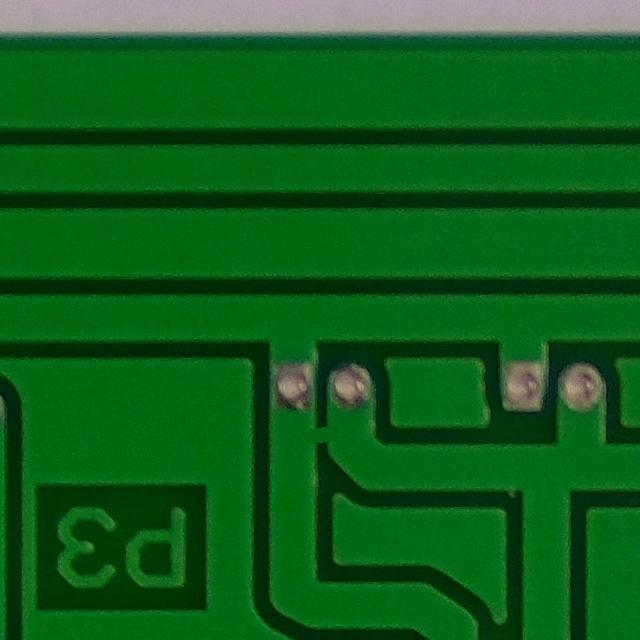short: (266, 375, 368, 477)
